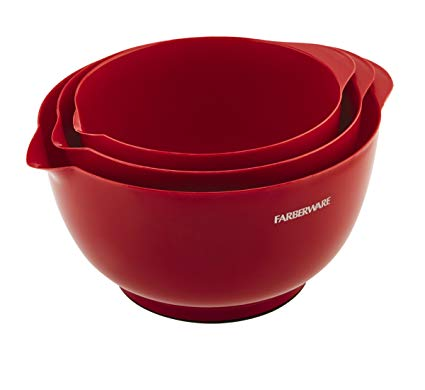Rec_Plastic: (13, 27, 398, 330)
